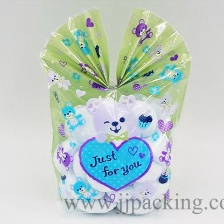snack: (31, 0, 198, 221)
